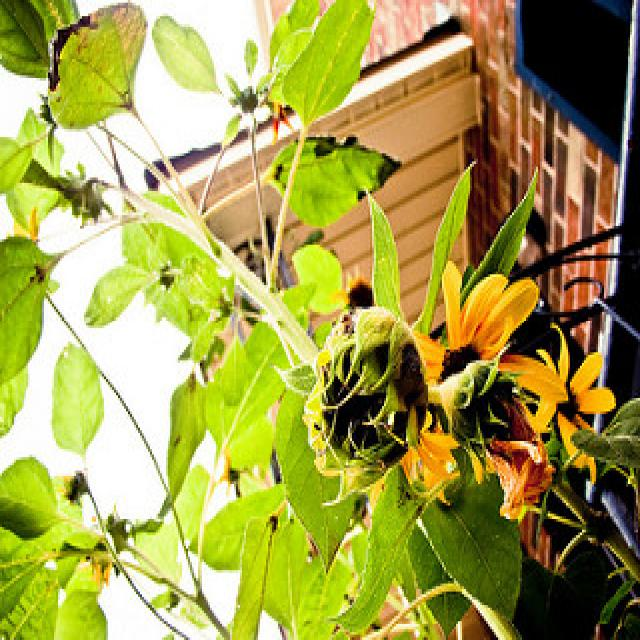sunflower: (309, 310, 451, 525), (427, 268, 533, 523), (517, 319, 623, 479)
